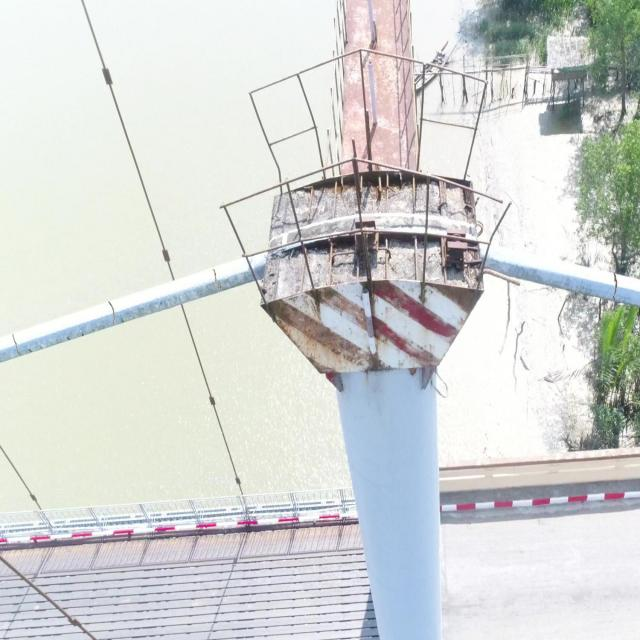crack: (212, 268, 222, 290), (12, 334, 21, 356), (612, 273, 619, 301), (108, 302, 116, 326)
